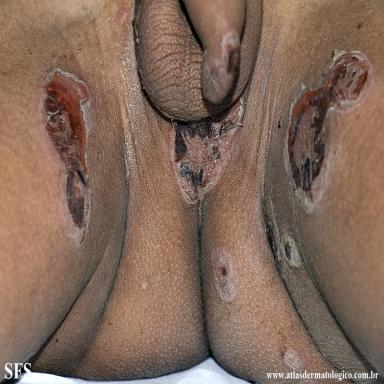Impetigo: (282, 48, 372, 212), (39, 69, 93, 245), (168, 93, 246, 204), (265, 194, 301, 268), (211, 247, 236, 302), (222, 31, 240, 79), (283, 349, 304, 372)
